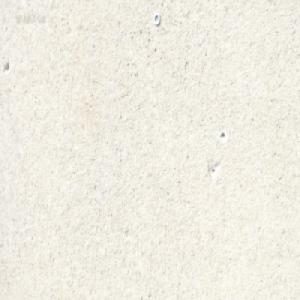Washer: (152, 12, 160, 26)
